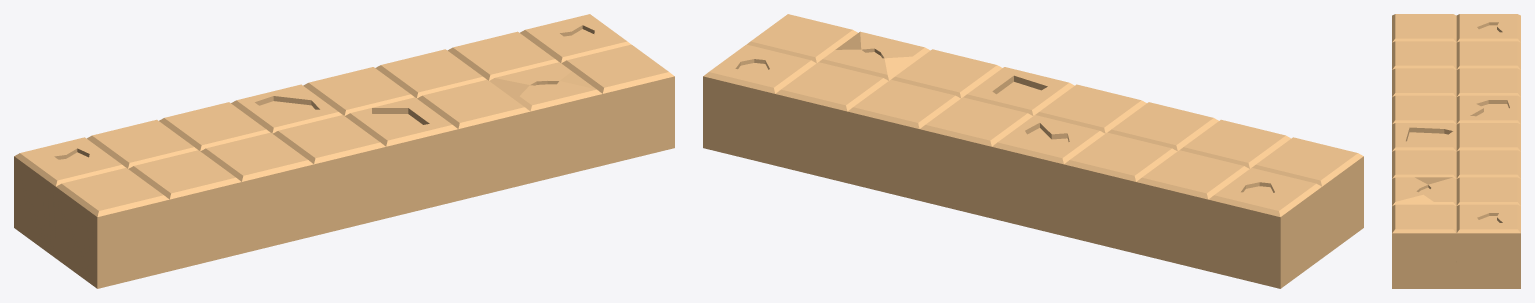
Rendered from 8x2 Floor.fbx.
3 views of the same model, side by side, from view 1: azimuth 30°, elevation 25°; view 2: azimuth 150°, elevation 25°; view 3: azimuth 270°, elevation 25° (orthographic). The views are drawn at different scales.
Visible parts, largest first — view 1: Cube; view 2: Cube; view 3: Cube.
Part boxes in pixels (<box>): Cube: <box>14,14,674,288</box>; Cube: <box>703,14,1363,288</box>; Cube: <box>1392,14,1520,288</box>.
Size of the model in its own units: 800 by 100 by 200.
